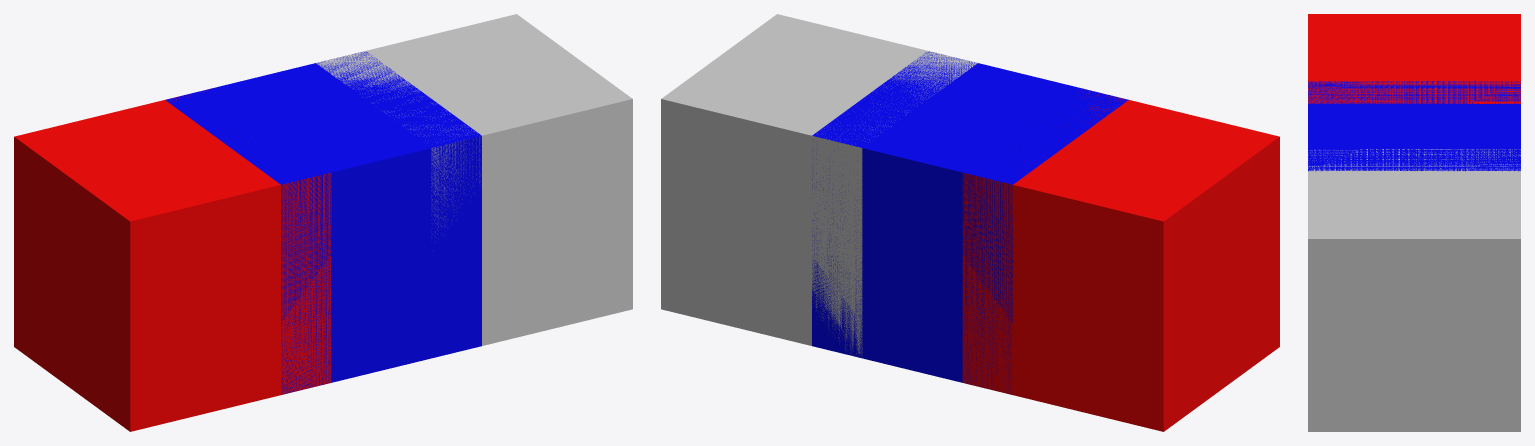
3 renders of one model, left to right at view 1: azimuth 30°, elevation 25°; view 2: azimuth 150°, elevation 25°; view 3: azimuth 270°, elevation 25°, orthographic. The views are drawn at different scales.
Visible parts, largest first — view 1: Cube_1, Cube_2, Cube_3; view 2: Cube_1, Cube_3, Cube_2; view 3: Cube_3, Cube_2, Cube_1.
Boxes of the visible parts, <box> form: Cube_1: <box>14,89,331,431</box>; Cube_2: <box>165,51,481,394</box>; Cube_3: <box>316,14,632,345</box>; Cube_1: <box>962,89,1279,431</box>; Cube_3: <box>661,14,977,356</box>; Cube_2: <box>812,51,1128,394</box>; Cube_3: <box>1308,149,1520,431</box>; Cube_2: <box>1308,81,1520,171</box>; Cube_1: <box>1308,14,1520,103</box>.
Bounding box in the file's own units: 500 × 200 × 200.
